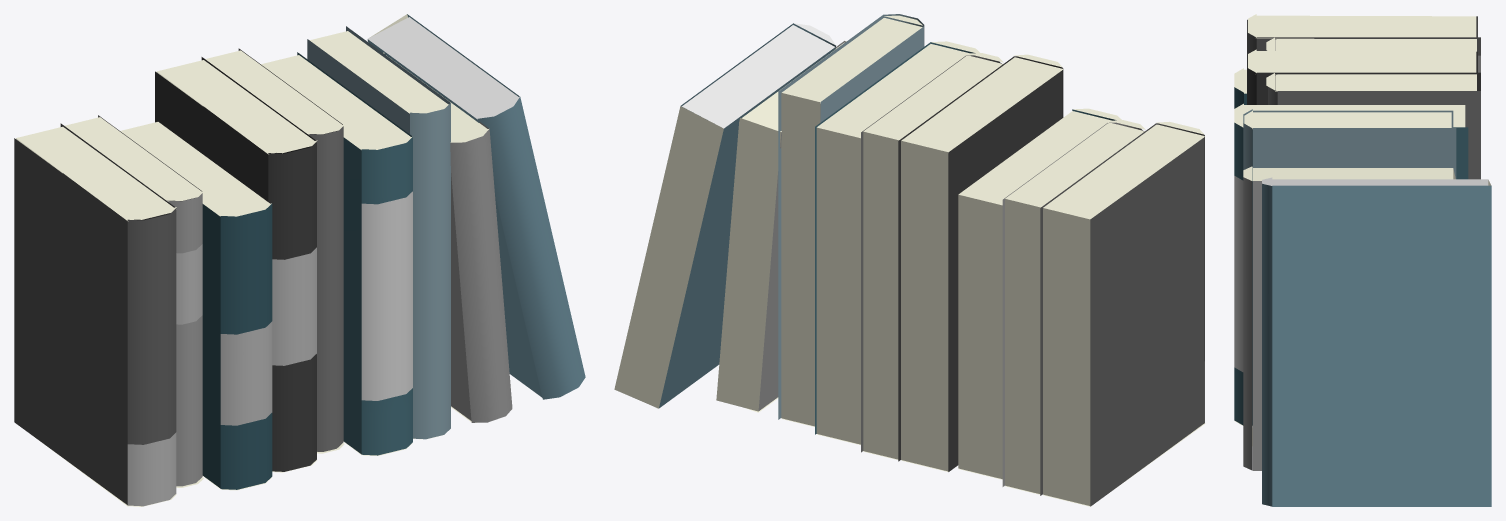
The model's file is prop_001.glb.
The picture shows the model from 3 angles, left to right: view 1: azimuth 30°, elevation 25°; view 2: azimuth 150°, elevation 25°; view 3: azimuth 270°, elevation 25°; orthographic projection. The views are drawn at different scales.
Parts seen in each view (by area): view 1: prop_001; view 2: prop_001; view 3: prop_001.
Part boxes in pixels (left/top/right/bottom): prop_001: left=14, top=14, right=585, bottom=506; prop_001: left=614, top=14, right=1205, bottom=506; prop_001: left=1234, top=14, right=1491, bottom=506.
Bounding box in the file's own units: 0.3626 × 0.2449 × 0.1775.
Materials: 1 (1 with a texture image).
